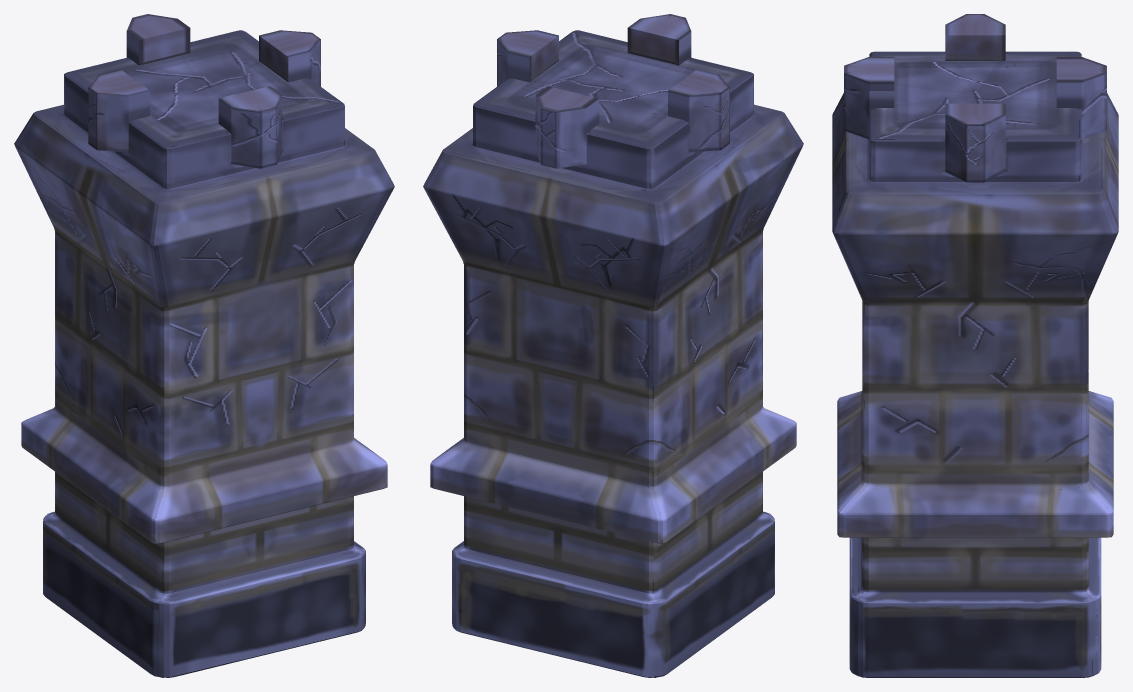
The model's file is pedestal.fbx.
The picture shows the model from 3 angles, left to right: view 1: azimuth 30°, elevation 25°; view 2: azimuth 150°, elevation 25°; view 3: azimuth 270°, elevation 25°; orthographic projection.
Parts seen in each view (by area): view 1: Cube; view 2: Cube; view 3: Cube.
Part boxes in pixels (x1=…): Cube: x1=14, y1=14, x2=394, y2=677; Cube: x1=423, y1=14, x2=803, y2=677; Cube: x1=832, y1=14, x2=1118, y2=677.
Bounding box in the file's own units: 228 × 491 × 228.
1 material, 1 textured.
